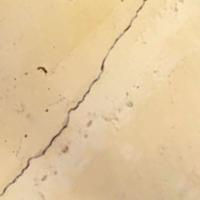crack: (0, 0, 154, 199)
